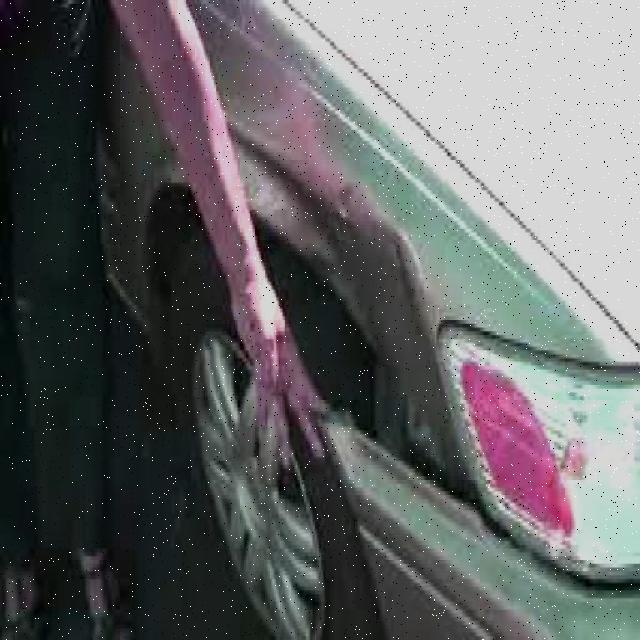car damage: (233, 121, 483, 553)
